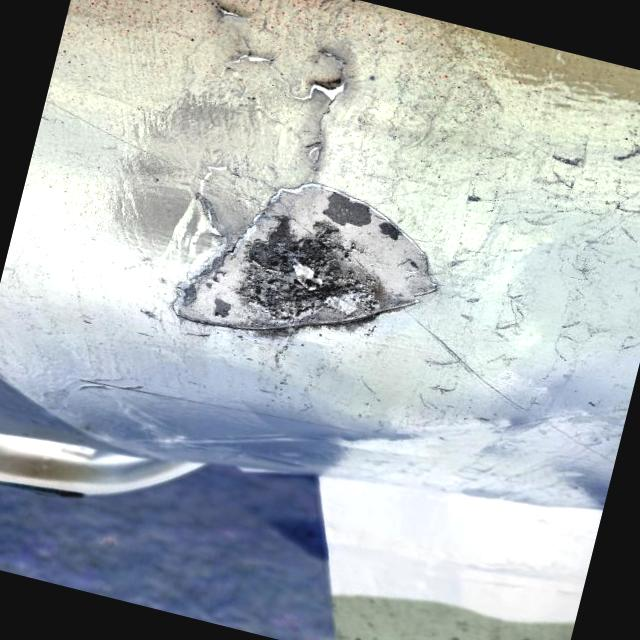crack: (264, 56, 355, 126), (215, 36, 284, 86), (165, 0, 265, 26)
dent: (170, 139, 463, 394)
